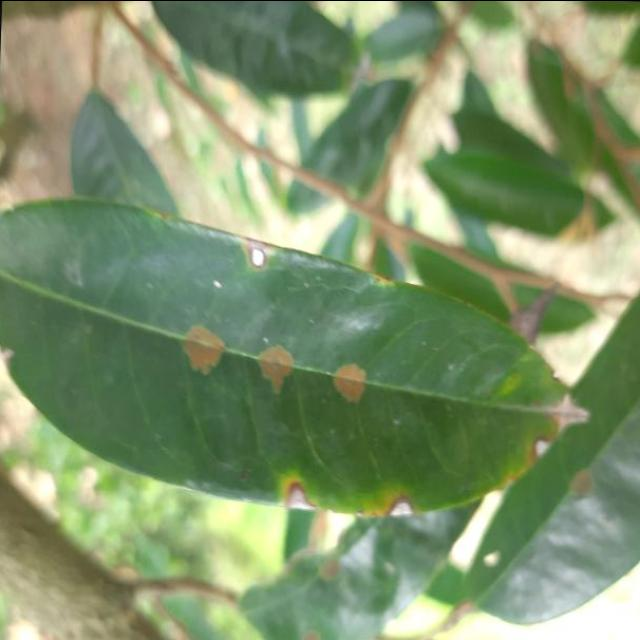Algal Leaf Spot: (0, 190, 611, 530)
